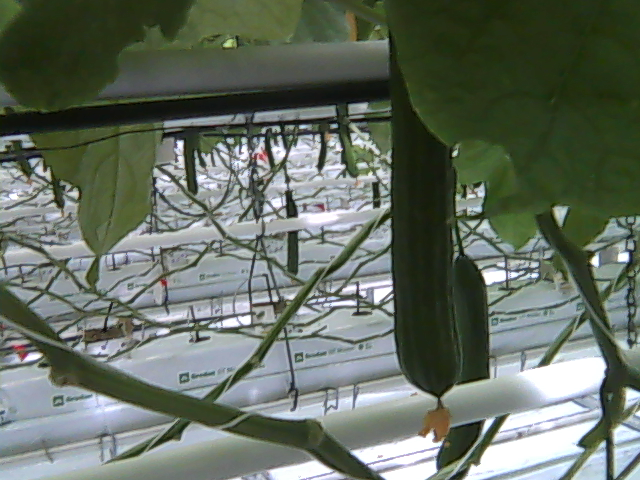concombre: (389, 29, 467, 445)
